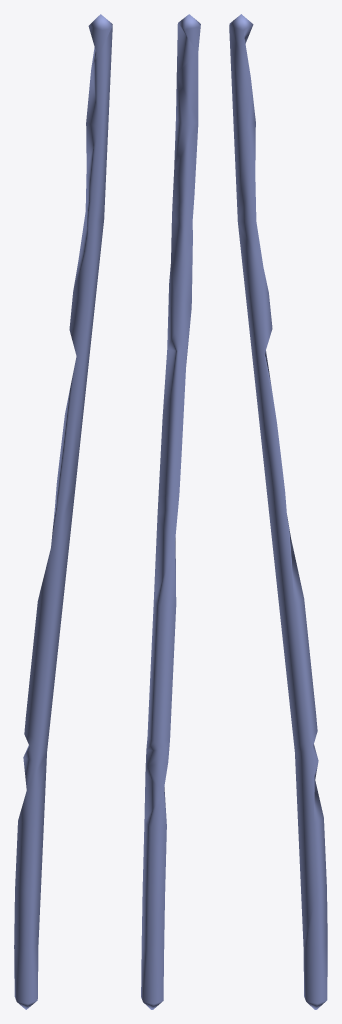
Rendered from Copie de Copie de Ressort_fil_demiSLDPRT^Horloge Comtoise Verge - Sonnerie.obj.
3 renders of one model, left to right at view 1: azimuth 90°, elevation 25°; view 2: azimuth 150°, elevation 25°; view 3: azimuth 270°, elevation 25°, orthographic. The views are drawn at different scales.
Parts seen in each view (by area): view 1: Face_5, Face_4; view 2: Face_5, Face_4, Face_1; view 3: Face_5, Face_4.
Part boxes in pixels (x1,y1,x2,y2): Face_5: [14, 26, 112, 950]; Face_4: [14, 945, 38, 1003]; Face_5: [141, 23, 200, 952]; Face_4: [141, 946, 163, 1003]; Face_1: [178, 14, 200, 29]; Face_5: [229, 25, 327, 950]; Face_4: [303, 945, 327, 1003].
Bounding box in the file's own units: 0.00217 × 0.0894 × 0.00803.
